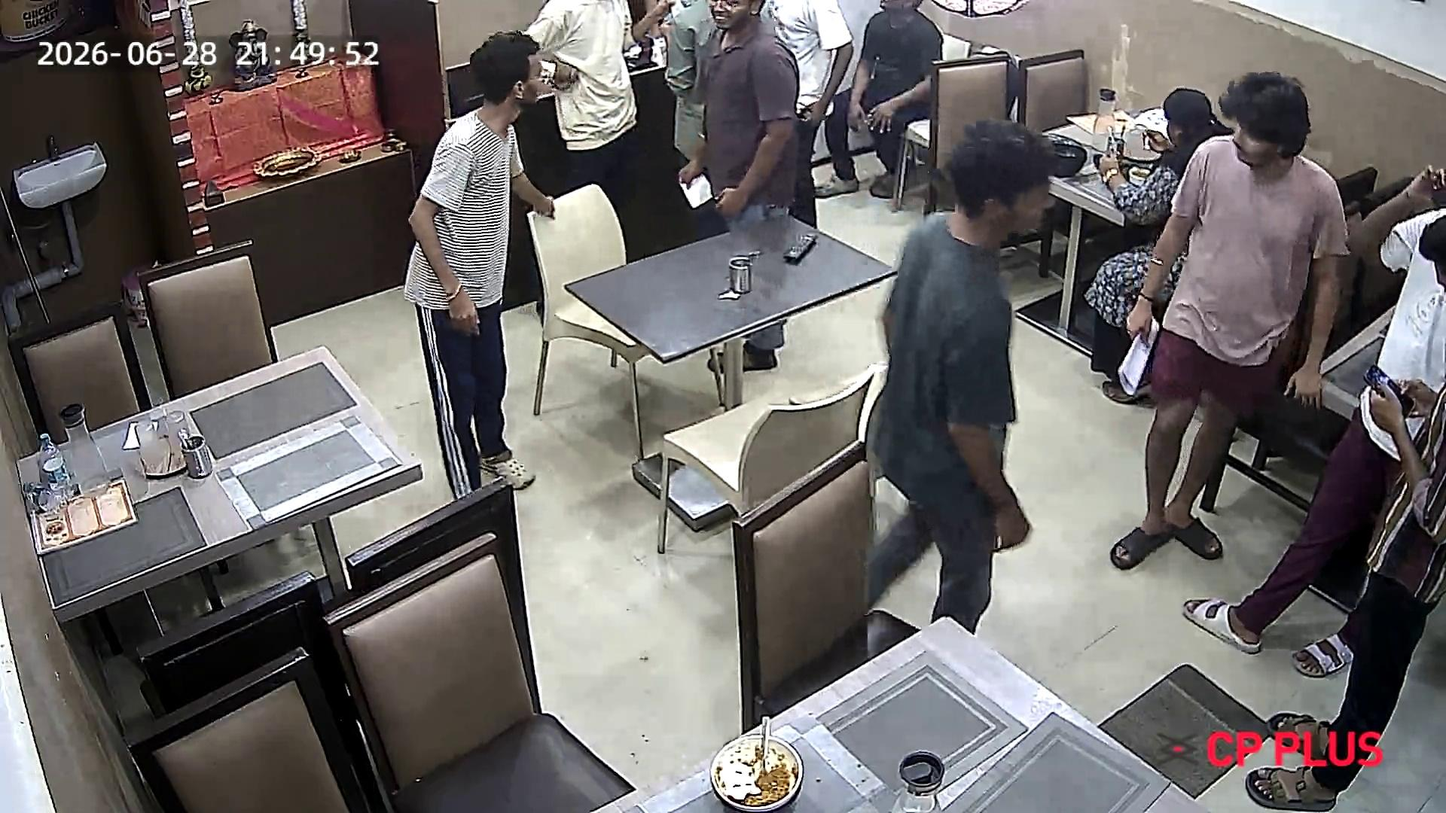clean: (562, 211, 898, 357)
dirty: (525, 628, 1297, 813), (15, 332, 426, 606)
occupied: (1000, 56, 1260, 260)
